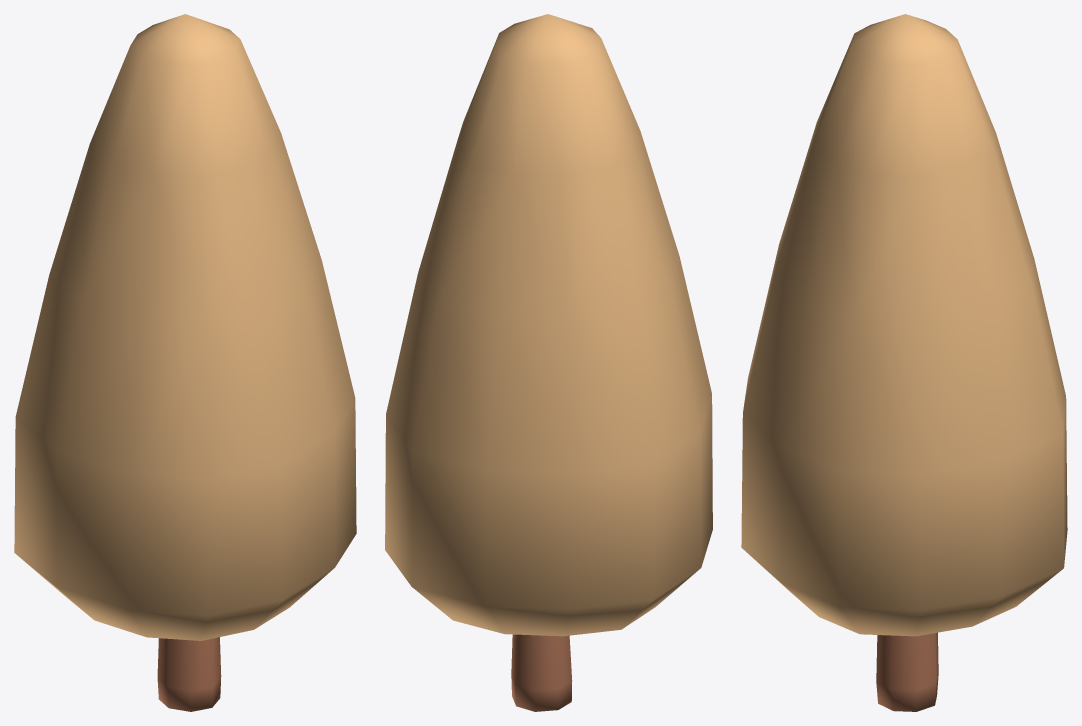
File: TreeSimple_03_LOD2.gltf
3 views of the same model, side by side, from view 1: azimuth 30°, elevation 25°; view 2: azimuth 150°, elevation 25°; view 3: azimuth 270°, elevation 25° (orthographic).
Parts seen in each view (by area): view 1: TreeSimple_03_LOD2_Cylinder.592; view 2: TreeSimple_03_LOD2_Cylinder.592; view 3: TreeSimple_03_LOD2_Cylinder.592.
Part boxes in pixels (x1=…): TreeSimple_03_LOD2_Cylinder.592: x1=14, y1=14, x2=356, y2=711; TreeSimple_03_LOD2_Cylinder.592: x1=385, y1=14, x2=712, y2=711; TreeSimple_03_LOD2_Cylinder.592: x1=741, y1=14, x2=1067, y2=711.
Size of the model in its own units: 3.98 by 9.16 by 3.95.
1 material, 1 textured.
